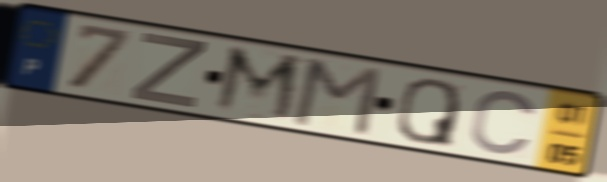7: (65, 21, 134, 94)
C: (466, 88, 542, 157)
M: (209, 42, 307, 128), (288, 56, 386, 140)
Q: (393, 76, 463, 150)
Z: (127, 30, 211, 111)
